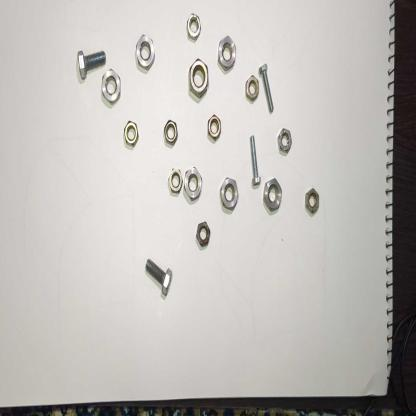Bolts: (143, 253, 176, 300), (258, 62, 280, 115), (72, 46, 106, 80), (248, 132, 262, 189)
NUTS: (129, 28, 162, 76), (184, 55, 212, 103), (214, 27, 240, 76), (202, 108, 229, 150), (262, 172, 286, 219), (98, 68, 126, 108), (302, 179, 323, 226), (182, 165, 206, 206), (120, 113, 142, 153), (219, 174, 239, 217), (184, 9, 205, 43), (162, 116, 181, 152), (276, 123, 295, 157), (194, 220, 214, 250), (244, 72, 261, 106), (167, 164, 183, 197)
